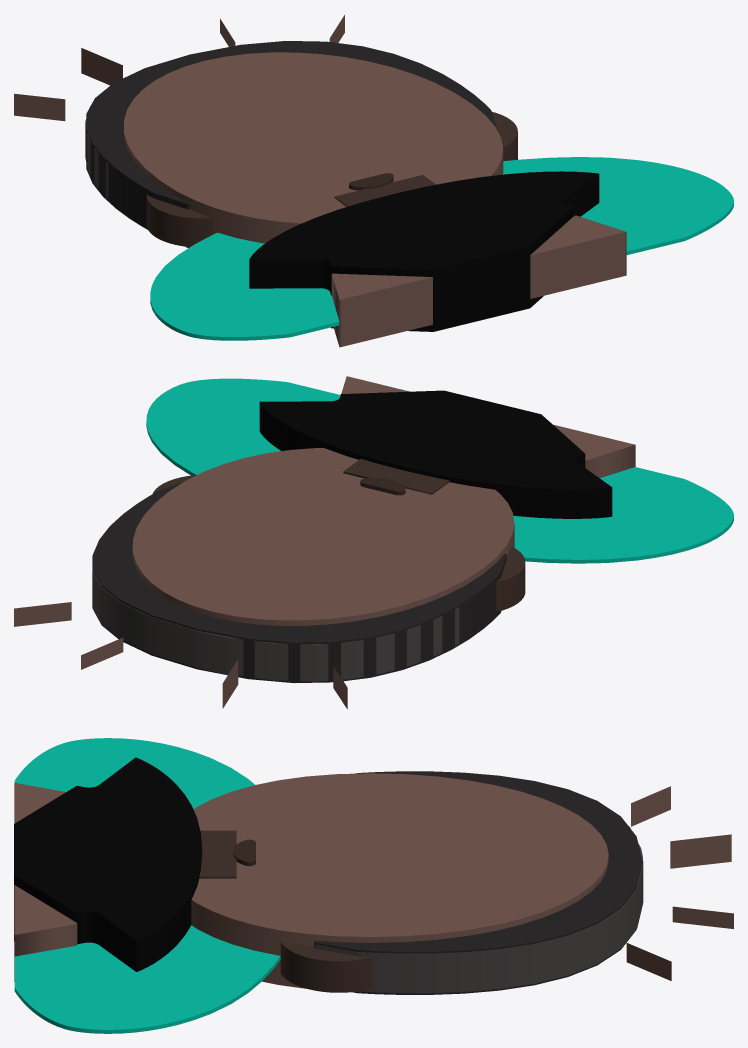
Rendered from emoji_u1f647_1f3ff_200d_2642.glb.
3 renders of one model, top to bottom at view 1: azimuth 30°, elevation 25°; view 2: azimuth 150°, elevation 25°; view 3: azimuth 270°, elevation 25°, orthographic. The views are drawn at different scales.
Parts seen in each view (by area): view 1: emoji_u1f647_1f3ff_200d_2642; view 2: emoji_u1f647_1f3ff_200d_2642; view 3: emoji_u1f647_1f3ff_200d_2642.
Part boxes in pixels (left/top/right/bottom): emoji_u1f647_1f3ff_200d_2642: left=14, top=15, right=733, bottom=347; emoji_u1f647_1f3ff_200d_2642: left=14, top=376, right=733, bottom=709; emoji_u1f647_1f3ff_200d_2642: left=14, top=738, right=733, bottom=1033.
Size of the model in its own units: 0.0319 by 0.0034 by 0.0332.
